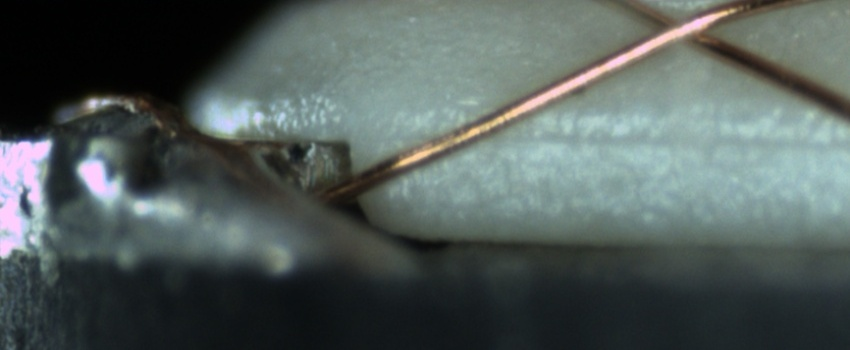CL: (627, 1, 732, 56)
DL: (416, 104, 850, 174)
TE: (54, 88, 192, 136)
